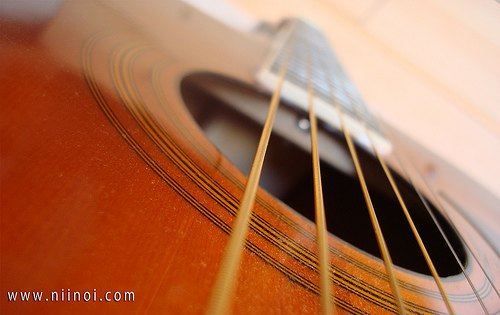guitar: (1, 1, 500, 315)
